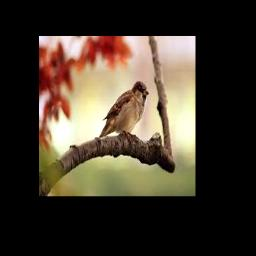Sparrow: (98, 81, 149, 138)
